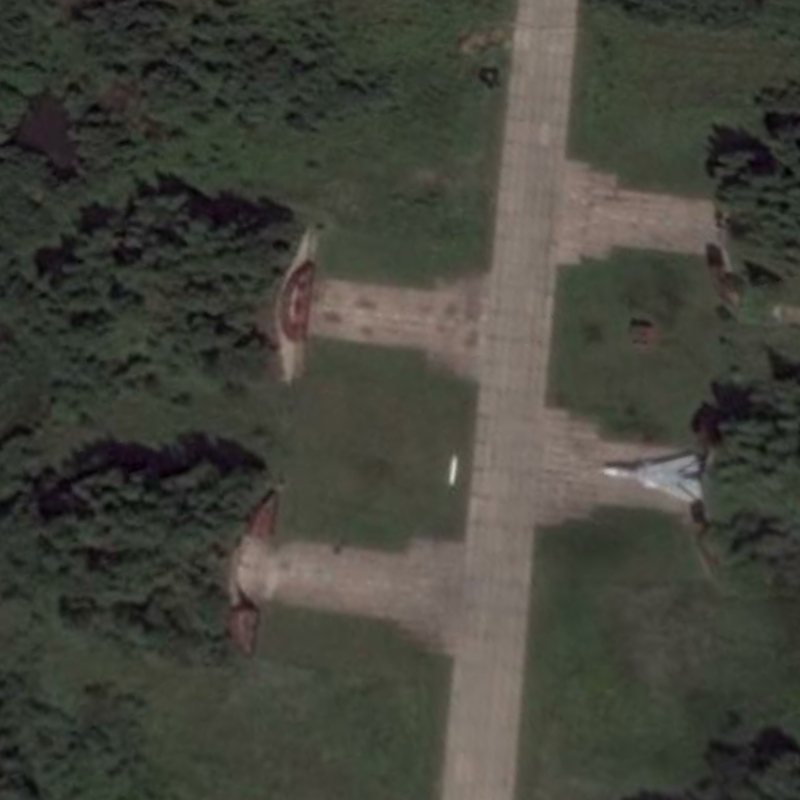A20: (598, 451, 706, 506)
